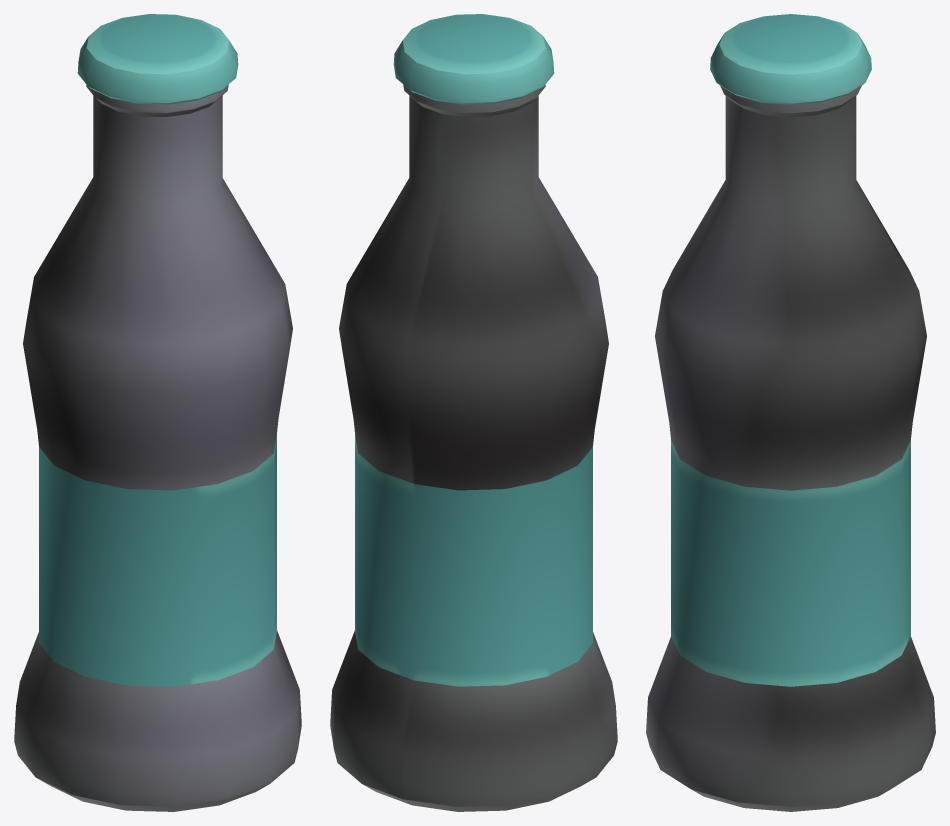
File: Juice-v2.fbx
3 views of the same model, side by side, from view 1: azimuth 30°, elevation 25°; view 2: azimuth 150°, elevation 25°; view 3: azimuth 270°, elevation 25° (orthographic).
Parts seen in each view (by area): view 1: juice-v2, juice-v2-cover; view 2: juice-v2, juice-v2-cover; view 3: juice-v2, juice-v2-cover.
Boxes of the visible parts, x1,y1,x2,y2 form: juice-v2: (14, 85, 301, 811); juice-v2-cover: (77, 14, 238, 104); juice-v2: (330, 85, 617, 811); juice-v2-cover: (393, 14, 554, 104); juice-v2: (646, 85, 935, 811); juice-v2-cover: (710, 14, 871, 104).
Bounding box in the file's own units: 0.4375 × 1.2 × 0.4375.
